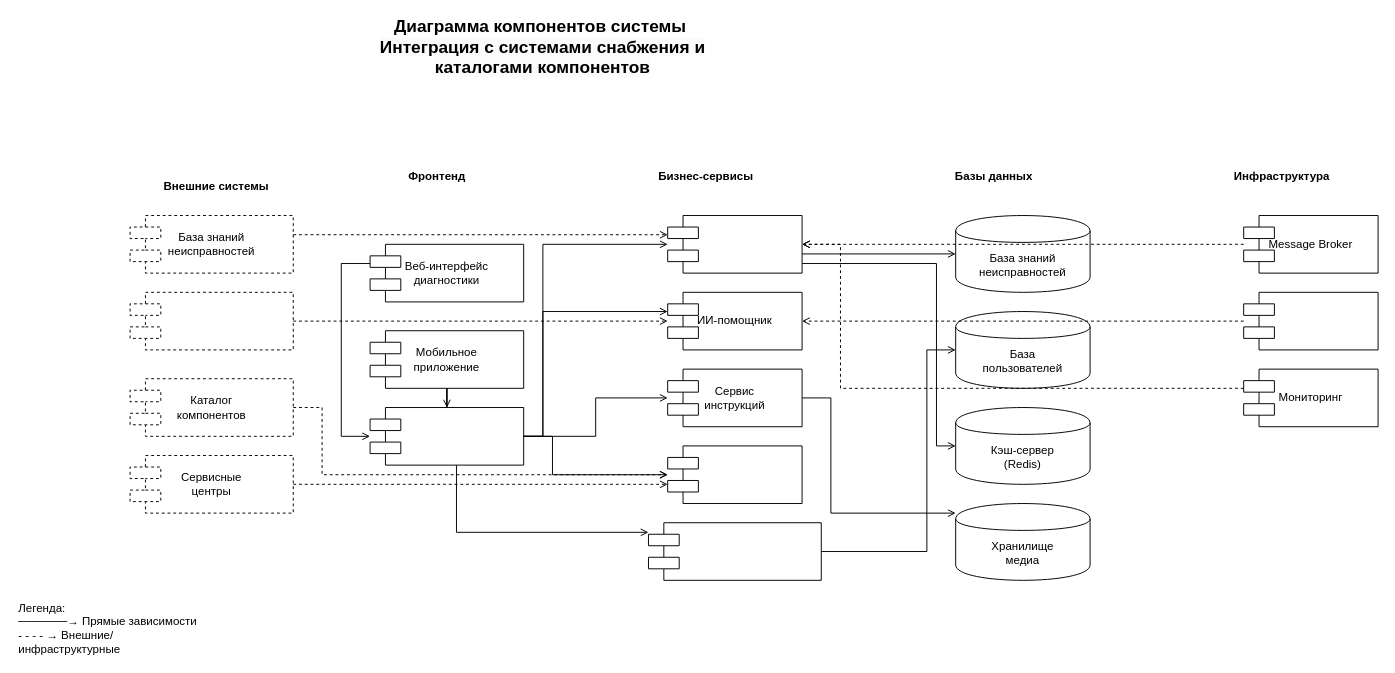
Image size: 1395x673. Some labels were removed from this diagram. Each missing label, with the centre of its shape:
API Gateway: (x=446, y=436)
ML Serving: (x=1310, y=320)
ML-инфраструктура: (x=211, y=320)
Сервис аутентификации: (x=734, y=551)
Сервис диагностики: (x=734, y=244)
Сервис интеграции: (x=734, y=474)
